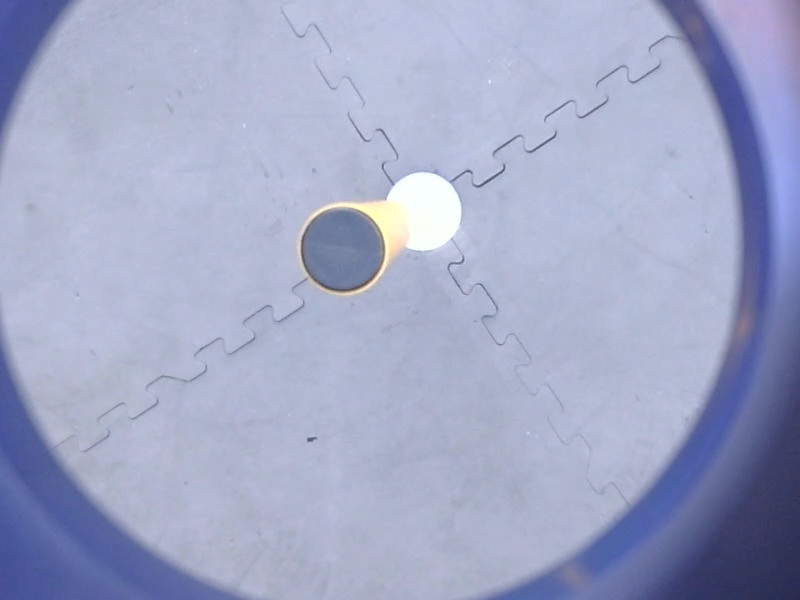tip: (291, 196, 396, 300)
